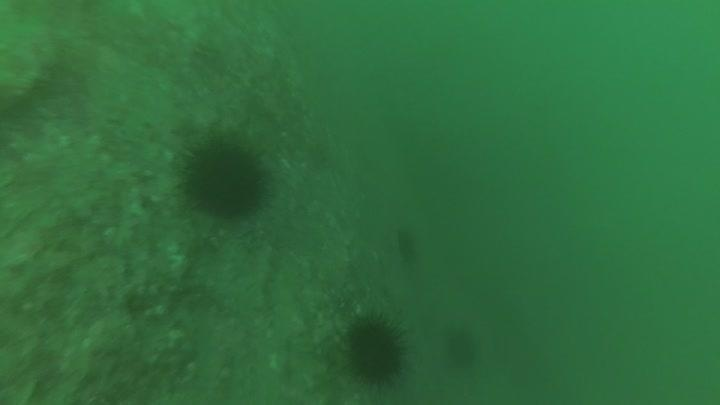echinus: (177, 133, 273, 223), (339, 309, 414, 390), (441, 324, 482, 372), (393, 226, 422, 266)
